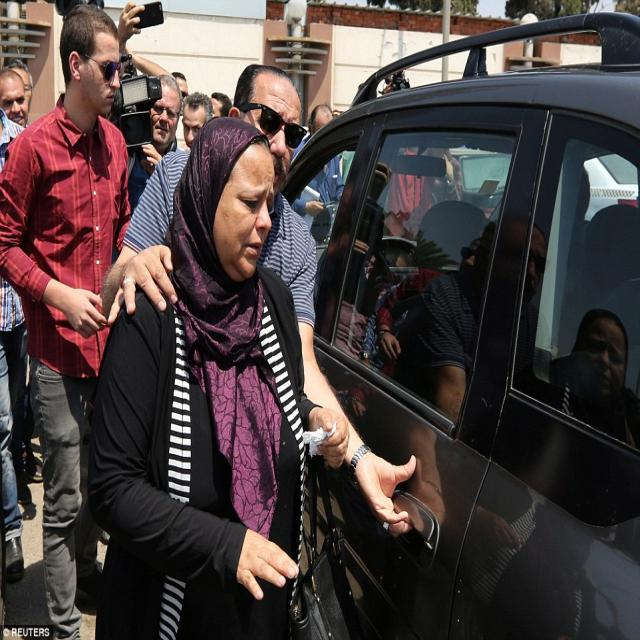body: (100, 62, 420, 541), (86, 116, 352, 639), (328, 125, 640, 409), (0, 6, 134, 639), (86, 34, 429, 202), (1, 37, 33, 582), (126, 64, 186, 217), (7, 57, 44, 119), (182, 88, 216, 152), (4, 60, 34, 127)
